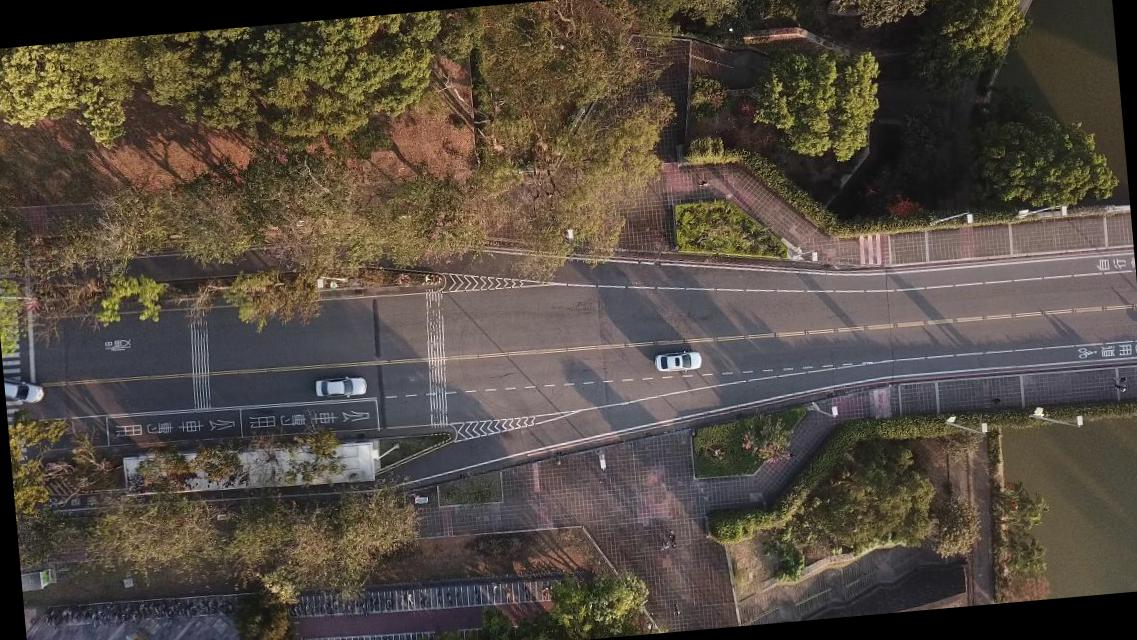vehicle: (3, 373, 45, 408), (313, 375, 367, 400), (652, 350, 703, 374)
